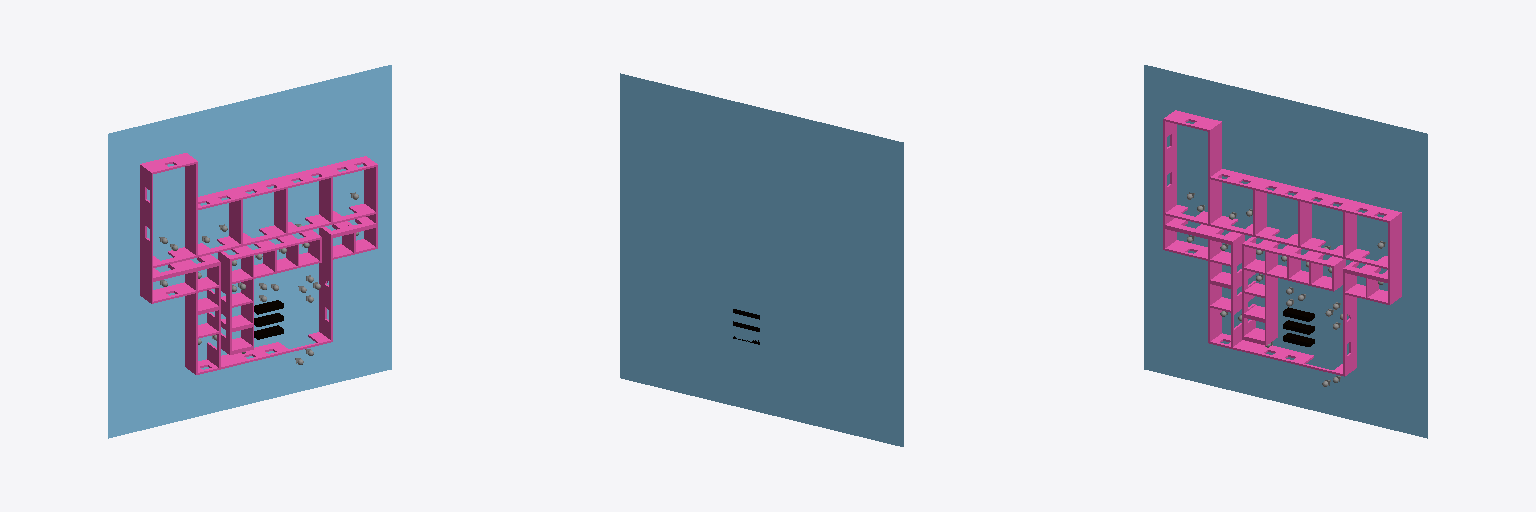
Rendered from testV4.obj.
3 views of the same model, side by side, from view 1: azimuth 30°, elevation 25°; view 2: azimuth 150°, elevation 25°; view 3: azimuth 330°, elevation 25° (orthographic).
Parts seen in each view (by area): view 1: QuadPatch001, Box040, Box023, Box050, Box051, Box025, Box054, Box008, Box026, Box038, Box033, Box022 (+7 smaller); view 2: QuadPatch001; view 3: QuadPatch001, Box040, Box023, Box050, Box025, Box051, Box054, Box026, Box022, Box004, Box008, Box033 (+7 smaller).
Boxes of the visible parts, <box> form: QuadPatch001: <box>108,65,391,438</box>; Box040: <box>197,156,375,210</box>; Box023: <box>152,204,375,268</box>; Box050: <box>140,164,152,303</box>; Box051: <box>319,227,332,341</box>; Box025: <box>152,168,332,281</box>; Box054: <box>197,332,330,374</box>; Box008: <box>185,271,197,374</box>; Box026: <box>185,153,197,255</box>; Box038: <box>218,252,231,354</box>; Box033: <box>207,254,220,369</box>; Box022: <box>364,156,377,248</box>; QuadPatch001: <box>620,73,903,446</box>; QuadPatch001: <box>1144,65,1427,438</box>; Box040: <box>1210,169,1398,222</box>; Box023: <box>1164,205,1388,269</box>; Box050: <box>1163,110,1176,249</box>; Box025: <box>1164,201,1356,256</box>; Box051: <box>1343,261,1356,376</box>; Box054: <box>1210,333,1343,375</box>; Box026: <box>1208,121,1221,223</box>; Box022: <box>1388,212,1401,304</box>; Box004: <box>1265,242,1277,345</box>; Box008: <box>1208,234,1221,343</box>; Box033: <box>1231,234,1244,347</box>.
Bounding box in the file's own units: 76.03 × 77.83 × 5.61.